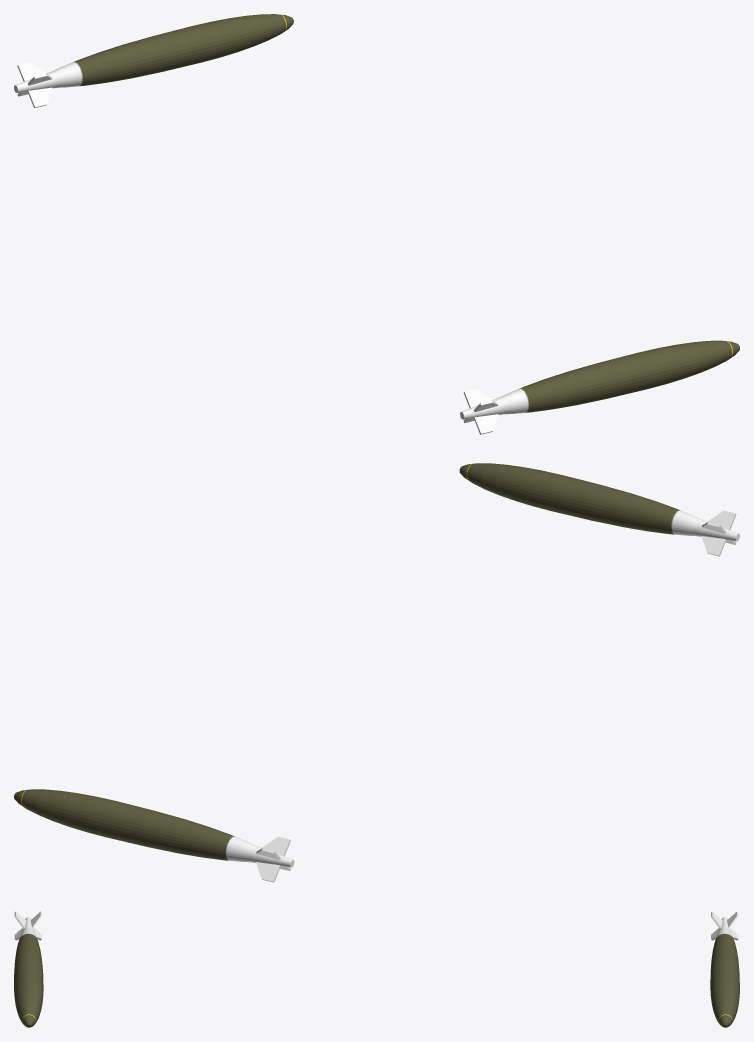
Rendered from gbu32fa18e161.glb.
3 renders of one model, top to bottom at view 1: azimuth 30°, elevation 25°; view 2: azimuth 150°, elevation 25°; view 3: azimuth 270°, elevation 25°, orthographic. The views are drawn at different scales.
Visible parts, largest first — view 1: 球.002, 球.003; view 2: 球.002, 球.003; view 3: 球.002, 球.003.
Part boxes in pixels (x1,y1,x2,y2): 球.002: [460, 340, 739, 434]; 球.003: [14, 14, 293, 108]; 球.002: [459, 463, 739, 556]; 球.003: [14, 789, 294, 882]; 球.002: [14, 911, 43, 1027]; 球.003: [710, 911, 739, 1027].
Size of the model in its own units: 3.41 by 0.4018 by 9.86.
Materials: 2 (1 with a texture image).
